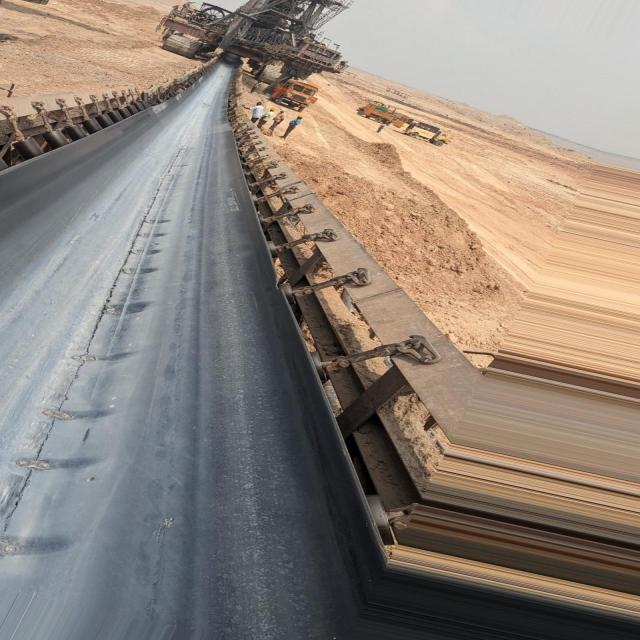Human: (280, 114, 304, 139), (242, 101, 265, 123), (256, 106, 277, 128), (268, 108, 286, 131)
Roller: (0, 92, 158, 173)
patch work: (0, 141, 190, 541)
